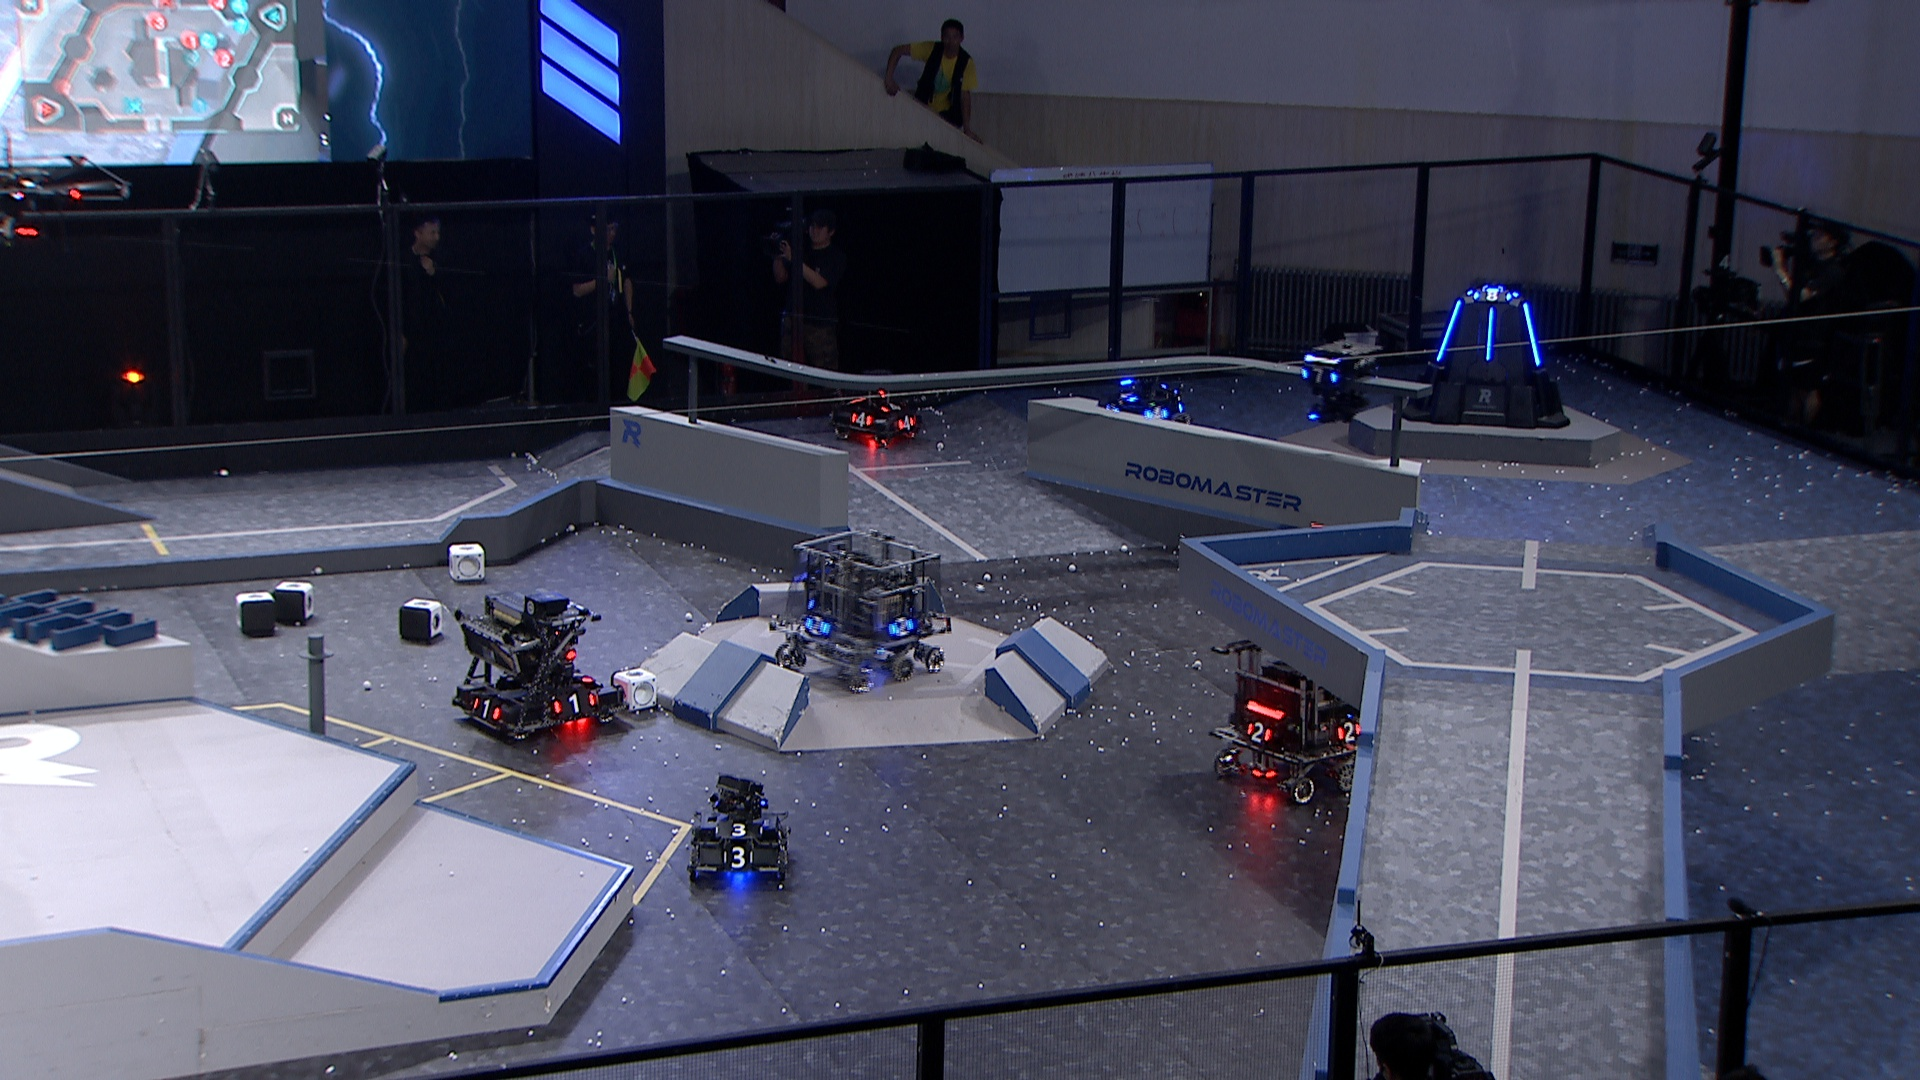armor: (1428, 295, 1466, 367), (1520, 297, 1543, 371), (550, 688, 596, 713), (713, 820, 765, 840), (719, 845, 756, 870), (468, 694, 501, 721), (1300, 367, 1342, 386), (1482, 305, 1495, 363), (1242, 719, 1273, 744), (1470, 286, 1516, 302), (802, 613, 829, 638), (1335, 719, 1364, 742), (887, 615, 916, 637), (1143, 404, 1171, 425), (849, 407, 873, 431), (891, 413, 916, 433), (564, 666, 591, 684), (1117, 386, 1139, 407), (877, 400, 906, 415)
base: (1400, 280, 1575, 433)
car: (767, 527, 956, 700), (1207, 621, 1375, 808), (448, 582, 626, 744), (680, 771, 793, 887), (829, 373, 926, 451), (1106, 368, 1196, 433)
watcher: (1295, 335, 1386, 427)
